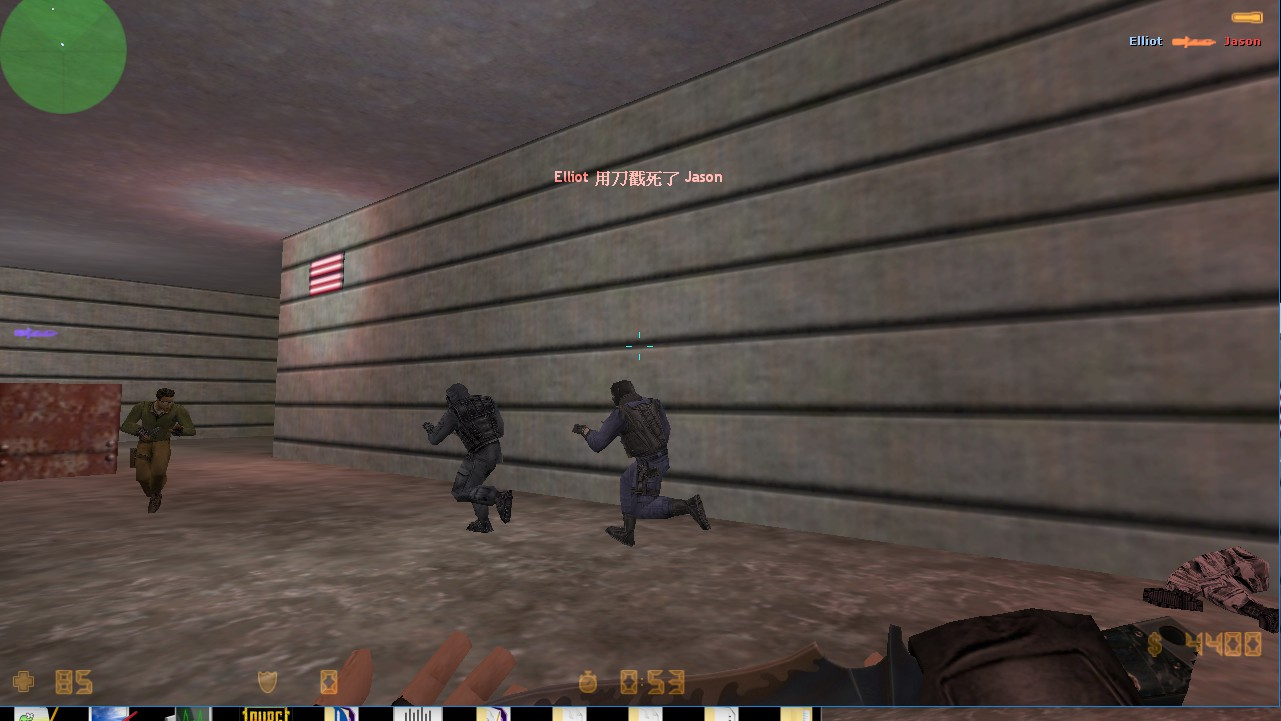person: (580, 374, 692, 550), (421, 377, 519, 545), (119, 381, 193, 515)
